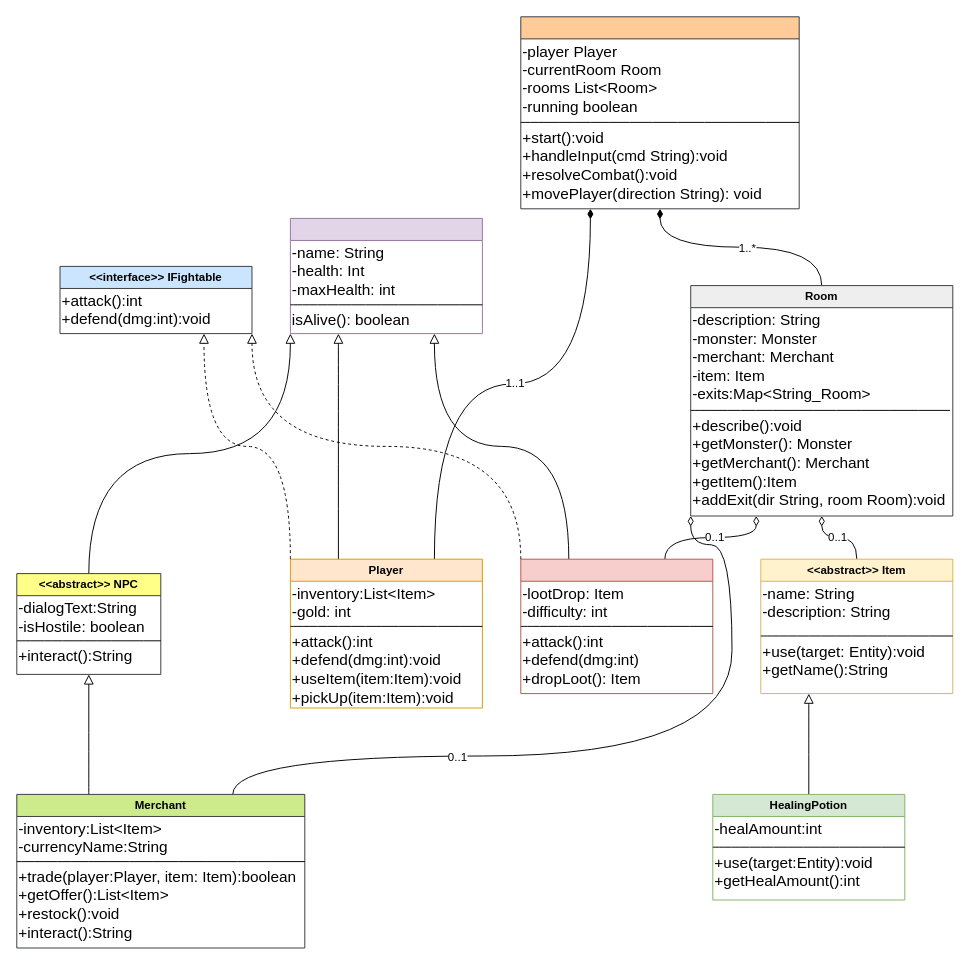
Some shapes in this 971 by 965 pixel diagram are drawn without their labels. The shapes that lost their labels are listed below. From the top down, each one's box as (x1, y1, x2, y2) in pixels, then its label:
(520, 16, 799, 209): GameEngine
(289, 217, 482, 334): <<abstract>> Entity
(520, 558, 713, 694): Monster
